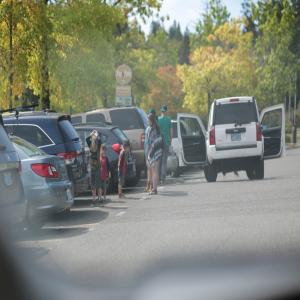Vehicle-registration-plate: (66, 188, 73, 202), (232, 133, 242, 141)
